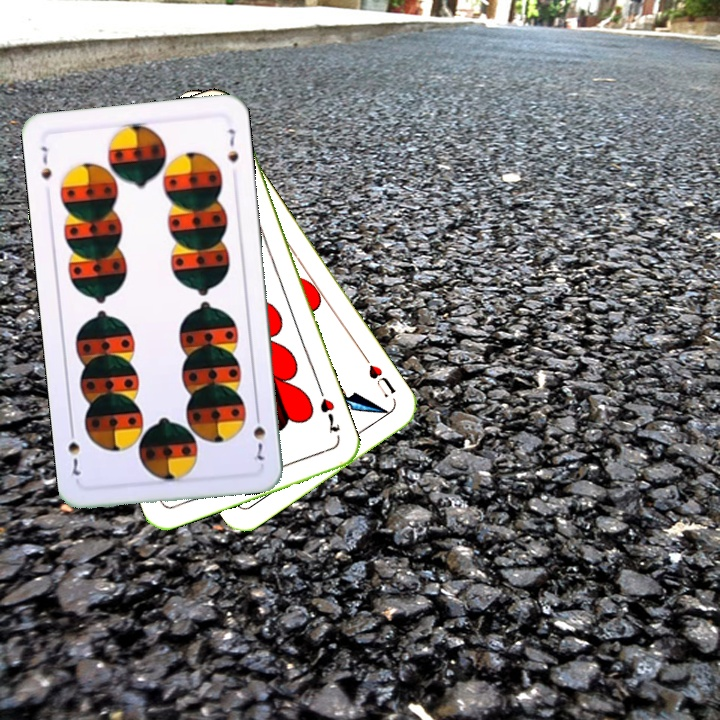H7: (316, 394, 343, 435)
HU: (359, 351, 399, 400)
S7: (249, 407, 268, 463), (36, 142, 54, 182)
